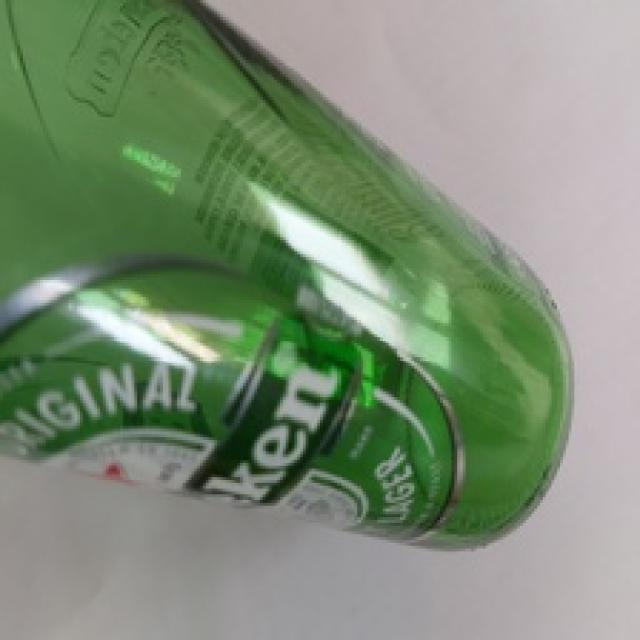Glass: (0, 0, 578, 547)
